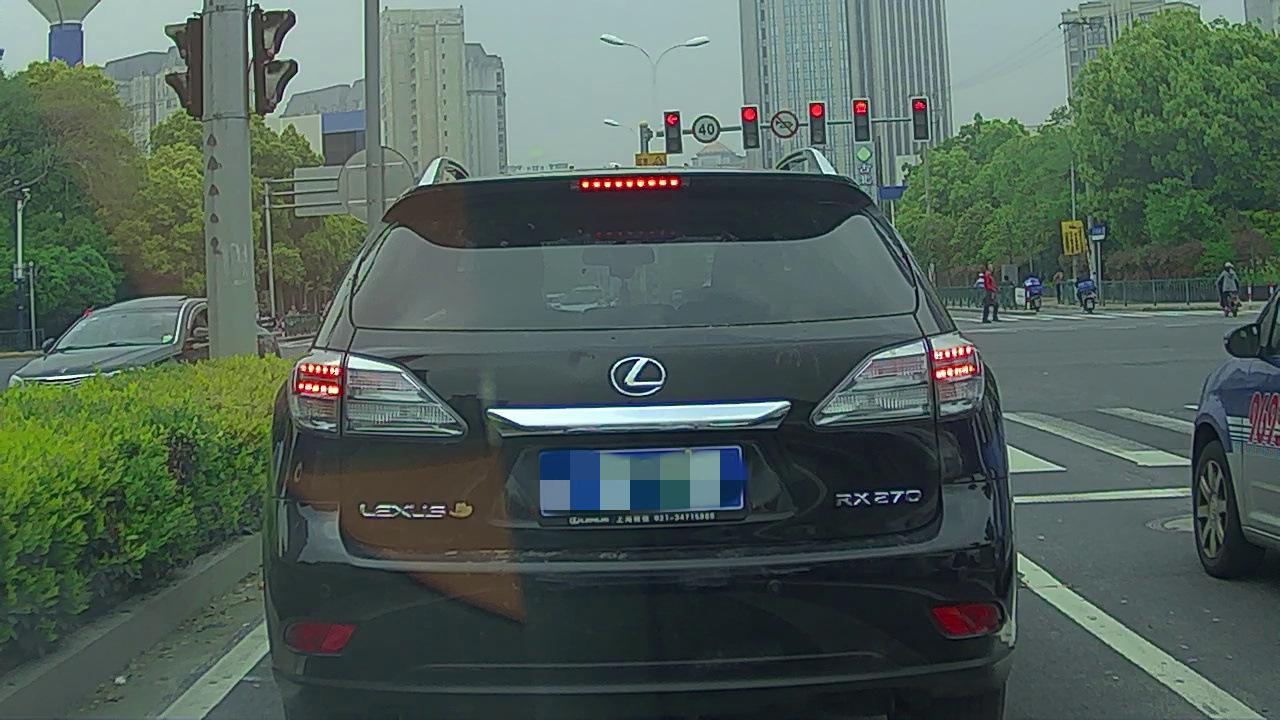traffic_light: (741, 105, 759, 149), (911, 98, 929, 140), (664, 111, 682, 152), (855, 99, 870, 143), (810, 104, 825, 143)
